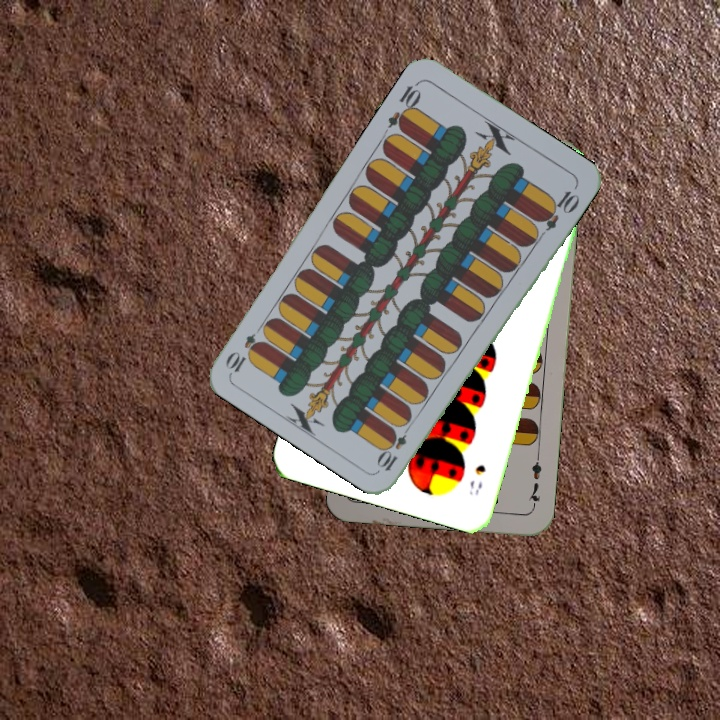E10: (384, 77, 424, 134), (374, 419, 415, 474)
E7: (524, 452, 545, 511)
S8: (465, 460, 488, 498)
